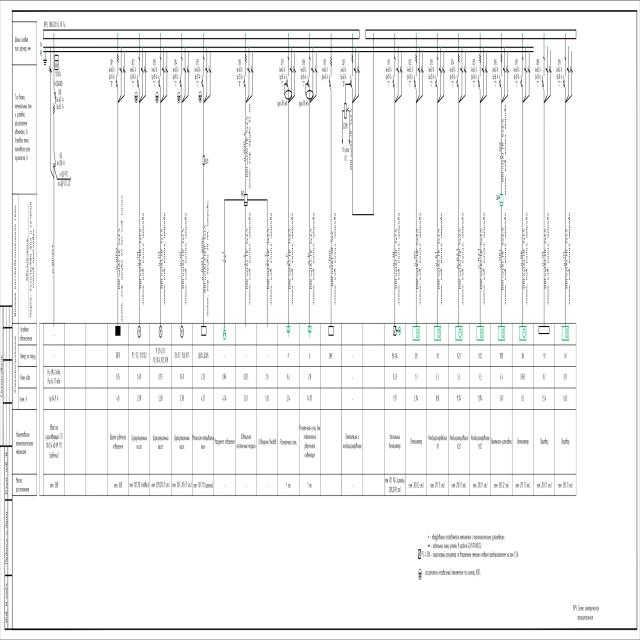-: (298, 64, 309, 109), (277, 64, 288, 108), (385, 65, 392, 89), (513, 65, 520, 89), (172, 65, 179, 89), (236, 65, 243, 89), (194, 66, 201, 89), (340, 65, 347, 88), (492, 66, 499, 89), (428, 66, 435, 89), (449, 66, 456, 89), (151, 66, 158, 89), (130, 65, 136, 89), (535, 65, 541, 89), (109, 64, 115, 88), (556, 66, 562, 90), (407, 65, 413, 89), (54, 70, 62, 88), (471, 64, 477, 87), (56, 95, 64, 112), (322, 64, 328, 84), (57, 158, 65, 168), (343, 121, 348, 130), (44, 18, 48, 29)
MX: (344, 101, 349, 120)
QF: (413, 54, 418, 94), (349, 53, 354, 93), (392, 56, 397, 94), (116, 52, 120, 92), (499, 53, 503, 93), (328, 56, 332, 96), (456, 54, 460, 94), (478, 53, 482, 93), (243, 54, 247, 94), (563, 54, 567, 93), (541, 54, 545, 93), (520, 55, 524, 94), (435, 55, 439, 94), (201, 53, 205, 92), (158, 55, 162, 94), (136, 55, 140, 93), (180, 56, 183, 94), (53, 87, 56, 114), (53, 150, 56, 170)
QFD: (305, 54, 314, 101), (284, 55, 293, 102)
WH: (54, 54, 59, 70)
